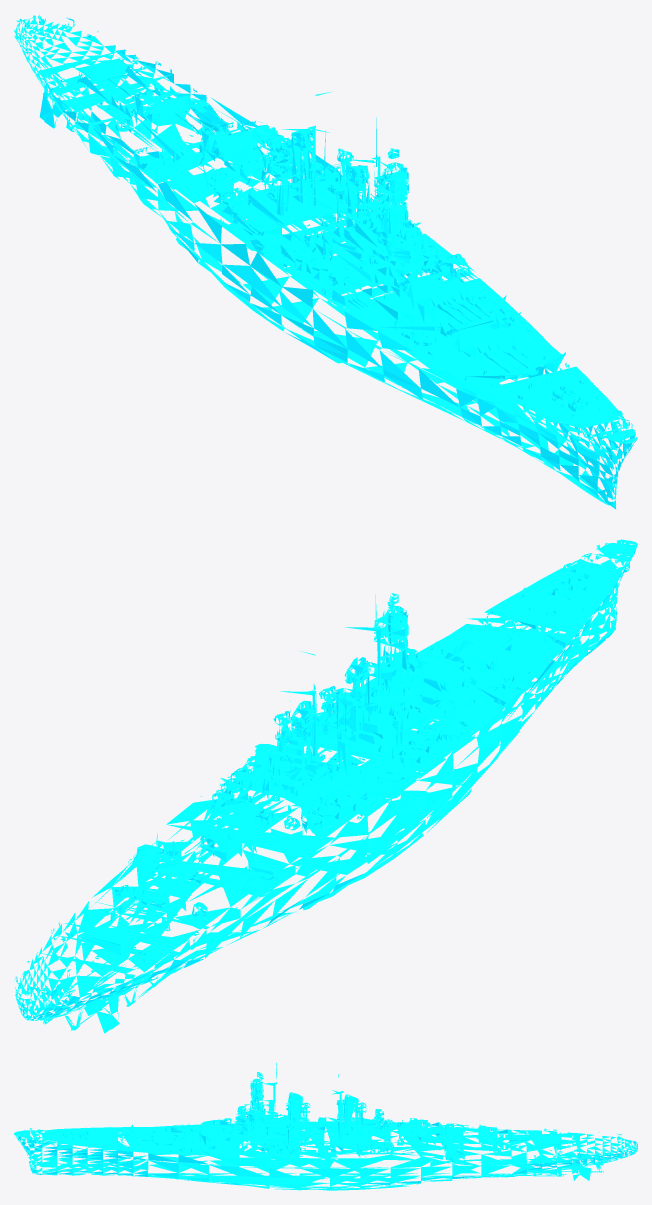
File: Cristoforo_Colombo.glb
3 views of the same model, one above another, from view 1: azimuth 30°, elevation 25°; view 2: azimuth 150°, elevation 25°; view 3: azimuth 270°, elevation 25° (orthographic). The views are drawn at different scales.
Bounding box in the file's own units: 2.72 × 3.73 × 18.8.
